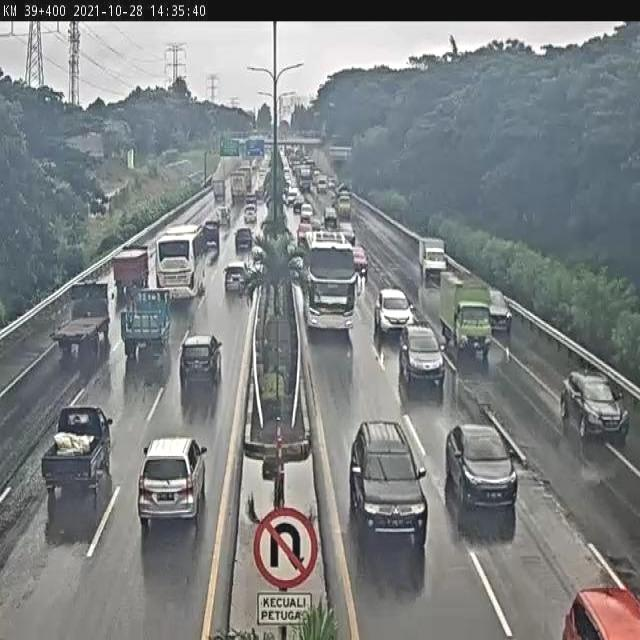Bus: (263, 190, 273, 209)
Car: (348, 420, 427, 543), (36, 398, 113, 507), (444, 423, 518, 515), (137, 435, 208, 527), (560, 370, 629, 445), (398, 324, 446, 396), (179, 334, 222, 388), (374, 287, 412, 337), (224, 261, 247, 293), (235, 227, 253, 253), (338, 221, 355, 243), (257, 166, 268, 192), (324, 206, 337, 228), (244, 204, 257, 224), (300, 203, 313, 221), (282, 179, 292, 200), (286, 188, 298, 205), (310, 216, 322, 232), (293, 197, 303, 214), (317, 175, 327, 192), (327, 178, 336, 192)
Truck: (302, 231, 358, 335), (50, 279, 111, 362), (438, 277, 492, 363), (154, 225, 207, 302), (120, 287, 172, 361), (112, 248, 150, 297), (419, 237, 447, 286), (230, 170, 249, 200), (202, 220, 220, 251), (352, 245, 368, 275), (337, 193, 352, 220), (296, 221, 312, 245), (212, 178, 226, 204), (250, 158, 262, 183), (295, 164, 307, 188), (312, 170, 322, 187), (331, 185, 339, 199)
